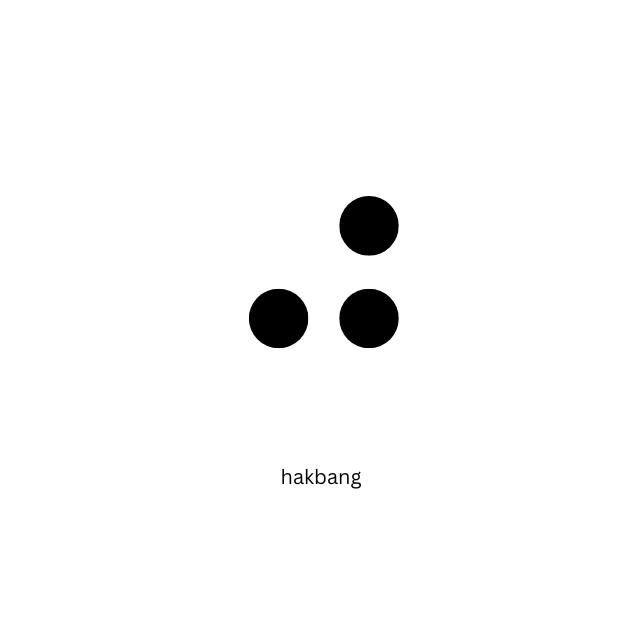one_cell_alphabet_hakbang: (247, 193, 401, 453)
